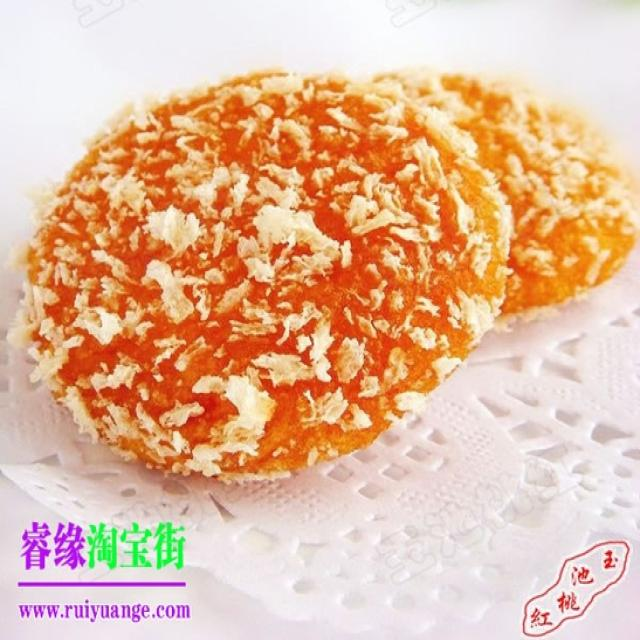炸货点心: (20, 34, 626, 528)
蛋糕甜品: (20, 34, 626, 528)
